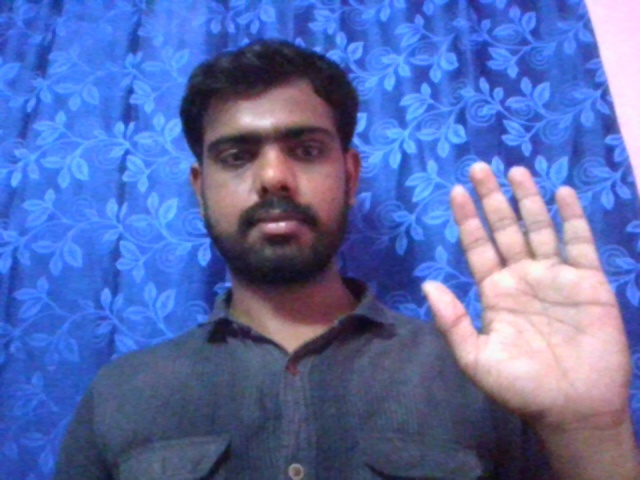Hello: (419, 160, 632, 421)
